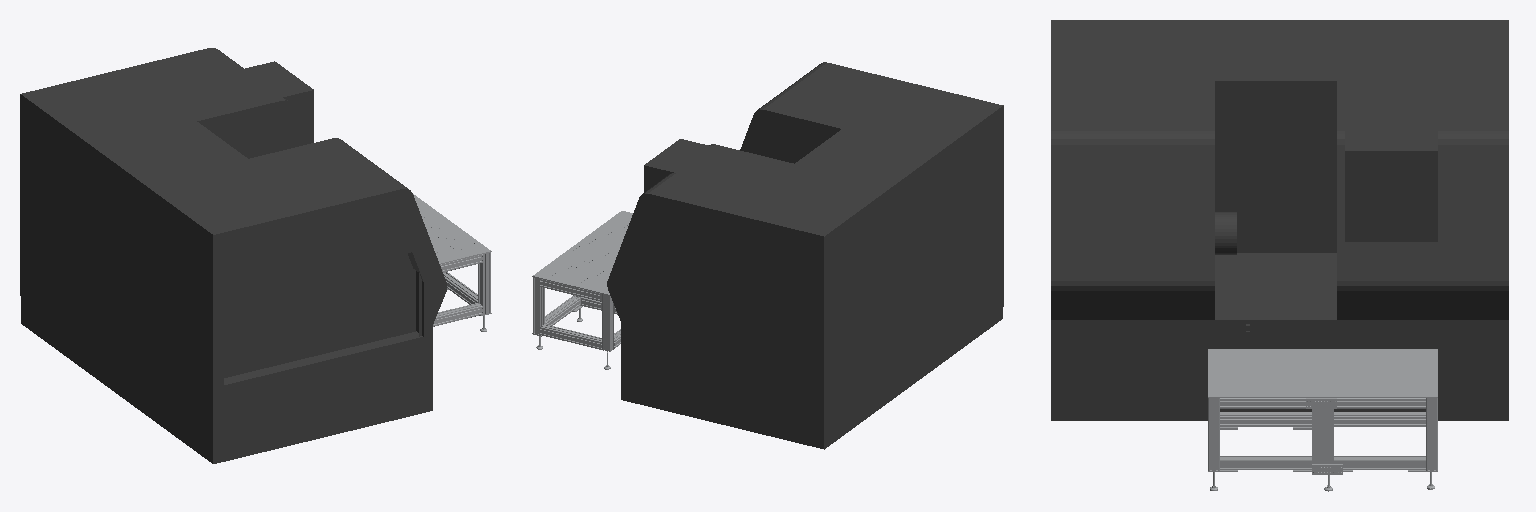
robot.urdf — robot:
<?xml version="1.0" encoding="UTF-8"?>
<robot name="robot">
	<link name="world" />
	<link name="machine">
		<visual>
			<geometry>
				<mesh filename="package://robotplus_description/meshes/machine.STL" />
			</geometry>
			<material name="">
				<color rgba="0.31 0.31 0.31 1" />
			</material>
		</visual>
		<collision>
			<origin xyz="0 0 0" rpy="0 0 0" />
			<geometry>
				<mesh filename="package://robotplus_description/meshes/machine.STL" />
			</geometry>
		</collision>
	</link>
	<link name="base">
		<visual>
			<geometry>
				<mesh filename="package://robotplus_description/meshes/base.STL"/>
			</geometry>
			<material name="">
				<color rgba="0.67 0.68 0.69 1" />
			</material>
		</visual>
		<collision>
			<origin xyz="0 0 0" rpy="0 0 0" />
			<geometry>
				<mesh filename="package://robotplus_description/meshes/base.STL"/>
			</geometry>
		</collision>
	</link>
	<link name="base_link">
		<visual>
			<geometry>
				<mesh filename="package://robotplus_description/meshes/UR10e/base_link.STL" />
			</geometry>
			<material name="">
				<color rgba="0.594117647058824 0.594117647058824 0.594117647058824 1" />
			</material>
		</visual>
		<collision>
			<origin xyz="0 0 0" rpy="0 0 0" />
			<geometry>
				<mesh filename="package://robotplus_description/meshes/UR10e/base_link.STL" />
			</geometry>
		</collision>
	</link>
	<link name="link1">
		<visual>
			<geometry>
				<mesh filename="package://robotplus_description/meshes/UR10e/link1.STL" />
			</geometry>
			<material name="">
				<color rgba="0.79216 0.81961 0.93333 1" />
			</material>
		</visual>
		<collision>
			<origin xyz="0 0 0" rpy="0 0 0" />
			<geometry>
				<mesh filename="package://robotplus_description/meshes/UR10e/link1.STL" />
			</geometry>
		</collision>
	</link>
	<link name="link2">
		<visual>
			<geometry>
				<mesh filename="package://robotplus_description/meshes/UR10e/link2.STL" />
			</geometry>
			<material name="">
				<color rgba="0.79216 0.81961 0.93333 1" />
			</material>
		</visual>
		<collision>
			<origin xyz="0 0 0" rpy="0 0 0" />
			<geometry>
				<mesh filename="package://robotplus_description/meshes/UR10e/link2.STL" />
			</geometry>
		</collision>
	</link>
	<link name="link3">
		<visual>
			<geometry>
				<mesh filename="package://robotplus_description/meshes/UR10e/link3.STL" />
			</geometry>
			<material name="">
				<color rgba="0.79216 0.81961 0.93333 1" />
			</material>
		</visual>
		<collision>
			<origin xyz="0 0 0" rpy="0 0 0" />
			<geometry>
				<mesh filename="package://robotplus_description/meshes/UR10e/link3.STL" />
			</geometry>
		</collision>
	</link>
	<link name="link4">
		<visual>
			<geometry>
				<mesh filename="package://robotplus_description/meshes/UR10e/link4.STL" />
			</geometry>
			<material name="">
				<color rgba="0.79216 0.81961 0.93333 1" />
			</material>
		</visual>
		<collision>
			<origin xyz="0 0 0" rpy="0 0 0" />
			<geometry>
				<mesh filename="package://robotplus_description/meshes/UR10e/link4.STL" />
			</geometry>
		</collision>
	</link>
	<link name="link5">
		<visual>
			<geometry>
				<mesh filename="package://robotplus_description/meshes/UR10e/link5.STL" />
			</geometry>
			<material name="">
				<color rgba="0.79216 0.81961 0.93333 1" />
			</material>
		</visual>
		<collision>
			<origin xyz="0 0 0" rpy="0 0 0" />
			<geometry>
				<mesh filename="package://robotplus_description/meshes/UR10e/link5.STL" />
			</geometry>
		</collision>
	</link>
	<link name="link6">
		<visual>
			<geometry>
				<mesh filename="package://robotplus_description/meshes/UR10e/link6.STL" />
			</geometry>
			<material name="">
				<color rgba="0.79216 0.81961 0.93333 1" />
			</material>
		</visual>
		<collision>
			<origin xyz="0 0 0" rpy="0 0 0" />
			<geometry>
				<mesh filename="package://robotplus_description/meshes/UR10e/link6.STL" />
			</geometry>
		</collision>
	</link>
	<link name="end" />
	<joint name="link6_end" type="fixed">
		<origin xyz="0 0 -0.1153" rpy="1.5708 0 1.5708" />
		<parent link="link6" />
		<child link="end" />
		<axis xyz="0 0 0" />
	</joint>
	<link name="gripper_cam_jig">
		<visual>
			<origin xyz="0 0 0" rpy="0 0 0" />
			<geometry>
				<mesh filename="package://keti_robot_description/meshes/gripper_cam_jig.STL" />
			</geometry>
			<material name="">
				<color rgba="0.898039215686275 0.917647058823529 0.929411764705882 1" />
			</material>
		</visual>
		<collision>
			<origin xyz="0 0 0" rpy="0 0 0" />
			<geometry>
				<mesh filename="package://keti_robot_description/meshes/gripper_cam_jig.STL" />
			</geometry>
		</collision>
	</link>
	<link name="cam">
		<visual>
			<origin xyz="0 0 0" rpy="0 0 0" />
			<geometry>
				<mesh filename="package://keti_robot_description/meshes/cam.STL" />
			</geometry>
			<material name="">
				<color rgba="0.792156862745098 0.819607843137255 0.933333333333333 1" />
			</material>
		</visual>
		<collision>
			<origin xyz="0 0 0" rpy="0 0 0" />
			<geometry>
				<mesh filename="package://keti_robot_description/meshes/cam.STL" />
			</geometry>
		</collision>
	</link>

	<joint name="machine_fixed" type="fixed">
		<origin xyz="2.1 -3.2 0" rpy="0 -1.5709 0" />
		<parent link="world" />
		<child link="machine" />
	</joint>
	<joint name="base_fixed" type="fixed">
		<origin xyz="3.3 -2.1 0.74" rpy="-1.5709 0 1.5709"/>
		<parent link="world"/>
		<child link="base"/>
	</joint>
	<joint name="base_link_fixed" type="fixed">
		<origin xyz="0.42 0 0.62" rpy="1.5709 3.1416 0"/>
		<parent link="base"/>
		<child link="base_link"/>
	</joint>
	<joint name="q1" type="revolute">
		<origin xyz="0 0 0" rpy="0 0 0" />
		<parent link="base_link" />
		<child link="link1" />
		<axis xyz="0 0 1" />
		<limit lower="-3.14" upper="3.14" effort="100" velocity="10" />
	</joint>
	<joint name="q2" type="revolute">
		<origin xyz="0 0 0.1807" rpy="1.5708 1.5708 0" />
		<parent link="link1" />
		<child link="link2" />
		<axis xyz="0 0 1" />
		<limit lower="-3.14" upper="3.14" effort="100" velocity="10" />
	</joint>
	<joint name="q3" type="revolute">
		<origin xyz="-0.6127 0 0" rpy="0 0 0" />
		<parent link="link2" />
		<child link="link3" />
		<axis xyz="0 0 1" />
		<limit lower="-3.14" upper="3.14" effort="100" velocity="10" />
	</joint>
	<joint name="q4" type="revolute">
		<origin xyz="-0.57155 0 0" rpy="0 0 -1.5708" />
		<parent link="link3" />
		<child link="link4" />
		<axis xyz="0 0 1" />
		<limit lower="-3.14" upper="3.14" effort="100" velocity="10" />
	</joint>
	<joint name="q5" type="revolute">
		<origin xyz="0 0 0.17415" rpy="1.5708 0 0" />
		<parent link="link4" />
		<child link="link5" />
		<axis xyz="0 0 1" />
		<limit lower="-3.14" upper="3.14" effort="100" velocity="10" />
	</joint>
	<joint name="q6" type="revolute">
		<origin xyz="0 0 0.11985" rpy="-1.5708 0 0" />
		<parent link="link5" />
		<child link="link6" />
		<axis xyz="0 0 1" />
		<limit lower="-3.14" upper="3.14" effort="100" velocity="10" />
	</joint>
	<joint name="link6_jig" type="fixed">
		<origin xyz="0 0 0.12" rpy="3.1416 0 1.5709" />
		<parent link="link6" />
		<child link="gripper_cam_jig" />
		<axis xyz="0 0 0" />
	</joint>
	<joint name="jig_cam" type="fixed">
		<origin xyz="-0.0583225279657438 0 -0.0820000000000001"
			rpy="3.14159265358979 0 1.5707963267949" />
		<parent link="gripper_cam_jig" />
		<child link="cam" />
		<axis xyz="0 0 0" />
	</joint>

</robot>

--- Render facts (derived) ---
3 views of the same robot in one strip: view 1: azimuth 30°, elevation 25°; view 2: azimuth 150°, elevation 25°; view 3: azimuth 270°, elevation 25° (orthographic).
Model robot with 13 links and 12 joints (6 revolute, 6 fixed), rooted at world, posed all joints at 0.
Links seen in each view (by area): view 1: machine, base; view 2: machine, base; view 3: machine, base.
Boxes of the visible links, x1,y1,x2,y2 form: machine: (20,48,446,463); base: (413,194,491,331); machine: (607,62,1003,449); base: (532,211,632,369); machine: (1051,20,1508,420); base: (1208,349,1437,491).
Bounding box of the posed robot: 3.31 × 3.2 × 2.11 m (x, y, z).
Meshes: 11 distinct files referenced, 2 mesh visuals loaded (2 binary STL); not drawn: 9 (reference not matched to a file when rendering).